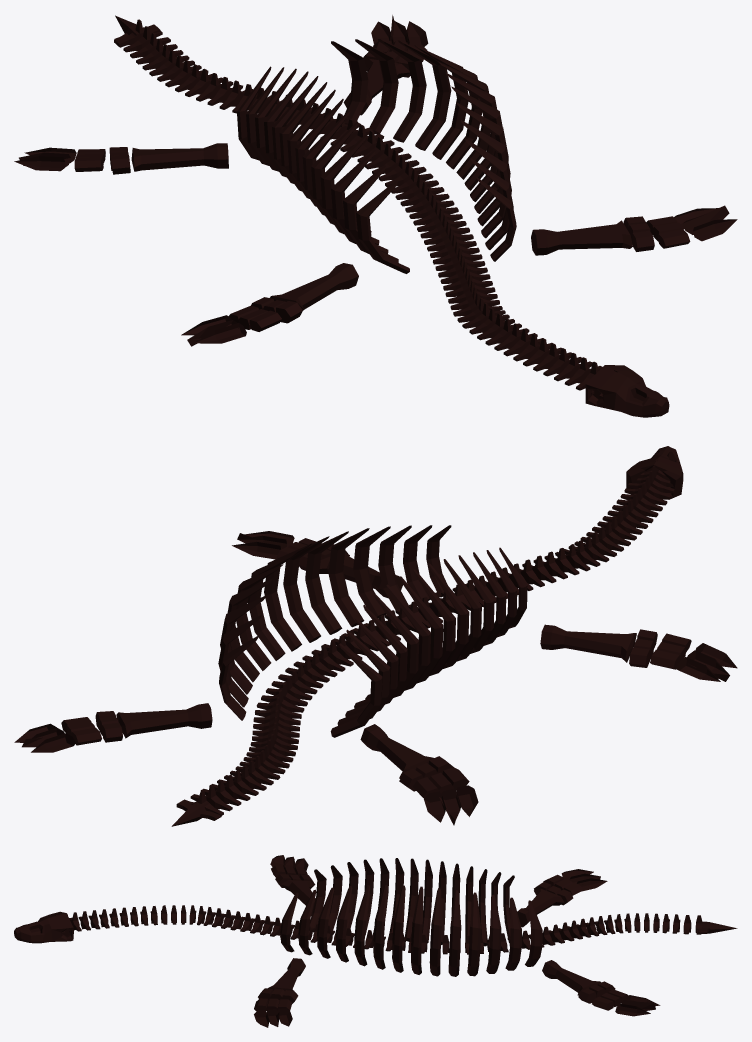
The model's file is plesiosaur.fbx.
The picture shows the model from 3 angles, top to bottom: view 1: azimuth 30°, elevation 25°; view 2: azimuth 150°, elevation 25°; view 3: azimuth 270°, elevation 25°; orthographic projection. The views are drawn at different scales.
Parts seen in each view (by area): view 1: Cylinder.007, Cylinder, Cylinder.003, Cylinder.004, Cylinder.005, Cylinder.006; view 2: Cylinder.007, Cylinder, Cylinder.004, Cylinder.006, Cylinder.005, Cylinder.003; view 3: Cylinder.007, Cylinder, Cylinder.006, Cylinder.005, Cylinder.003, Cylinder.004.
Part boxes in pixels (x1,y1,x2,y2): Cylinder.007: [237, 39, 516, 273]; Cylinder: [114, 15, 669, 417]; Cylinder.003: [531, 205, 737, 255]; Cylinder.004: [181, 263, 358, 346]; Cylinder.005: [14, 143, 228, 174]; Cylinder.006: [343, 15, 428, 115]; Cylinder.007: [218, 525, 527, 737]; Cylinder: [171, 446, 683, 826]; Cylinder.004: [540, 624, 737, 681]; Cylinder.006: [14, 703, 212, 752]; Cylinder.005: [360, 724, 478, 825]; Cylinder.003: [232, 531, 402, 598]; Cylinder.007: [280, 858, 542, 976]; Cylinder: [14, 905, 737, 954]; Cylinder.006: [542, 960, 660, 1016]; Cylinder.005: [517, 869, 607, 927]; Cylinder.003: [254, 958, 305, 1027]; Cylinder.004: [270, 855, 315, 916].
Size of the model in its own units: 6890 by 1635 by 12062.
